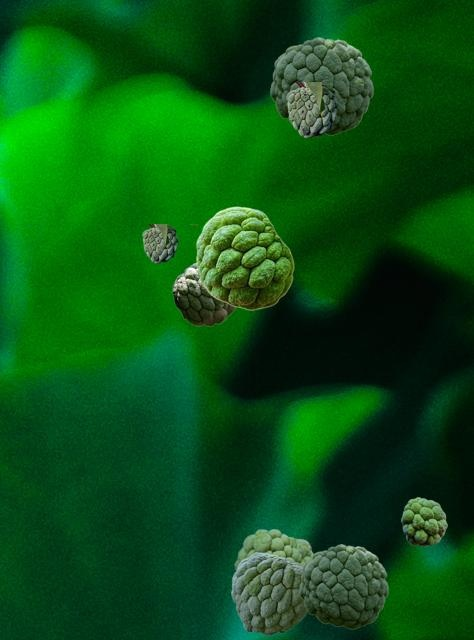atis: (196, 206, 293, 309), (270, 37, 372, 134), (299, 544, 387, 628), (231, 552, 306, 634), (286, 82, 364, 137), (172, 262, 235, 325), (234, 529, 313, 570), (401, 497, 446, 545), (142, 224, 196, 262)
